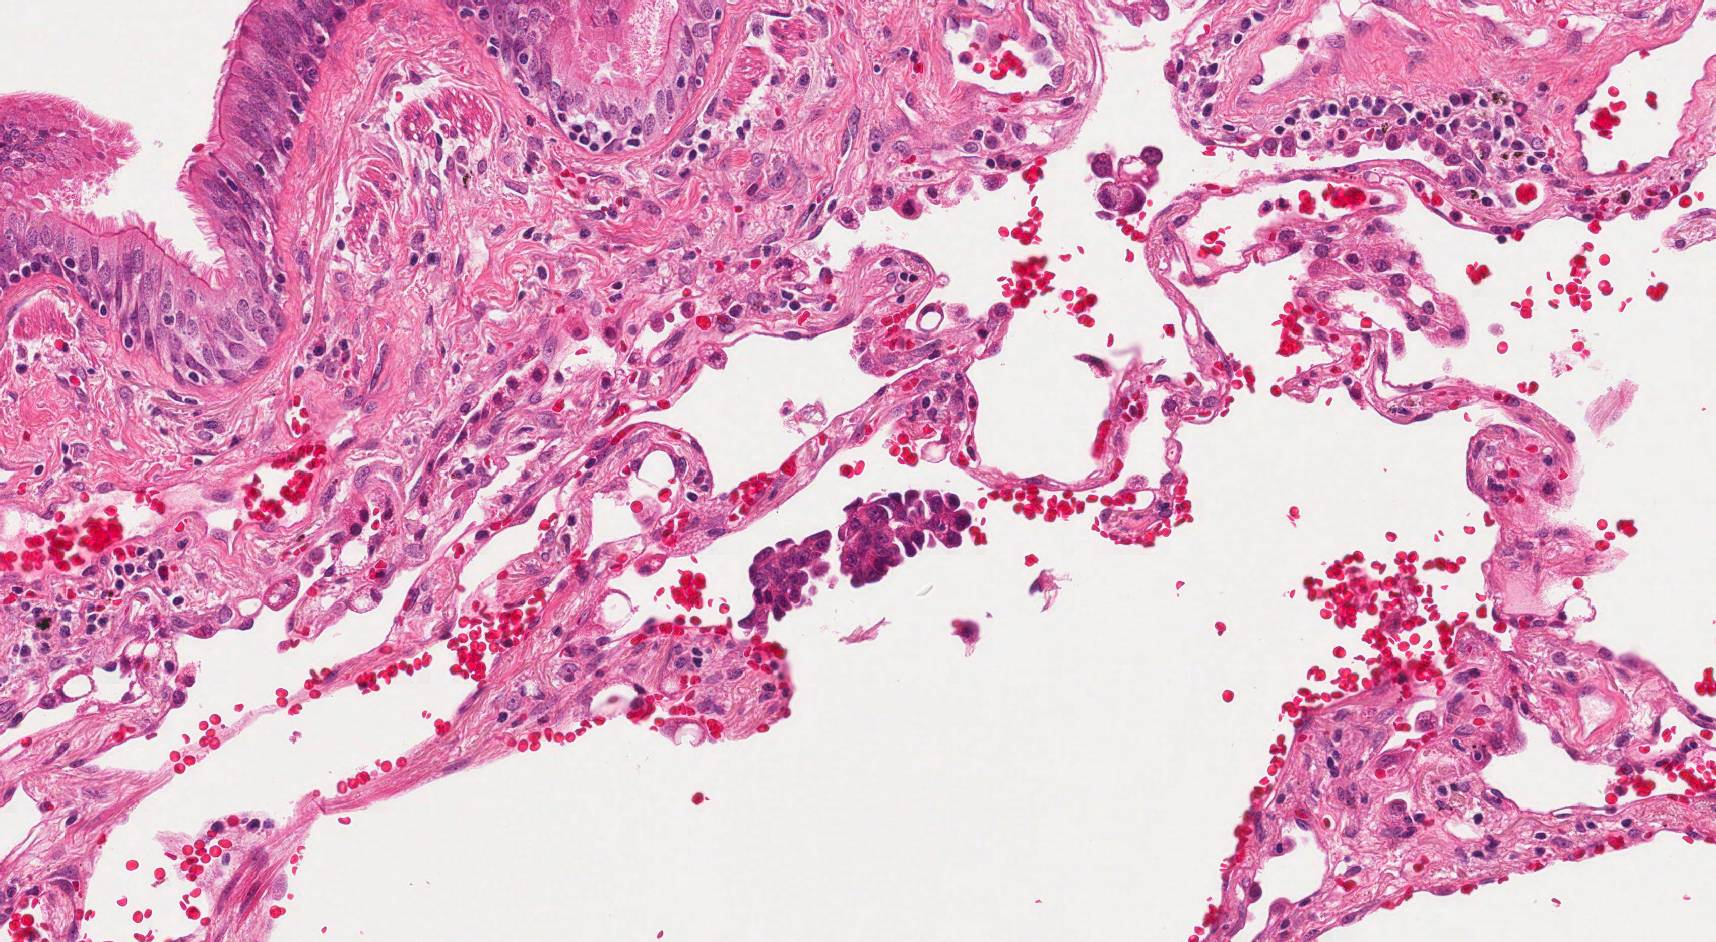stas: (838, 488, 971, 587), (738, 531, 831, 629), (1088, 145, 1165, 212)
